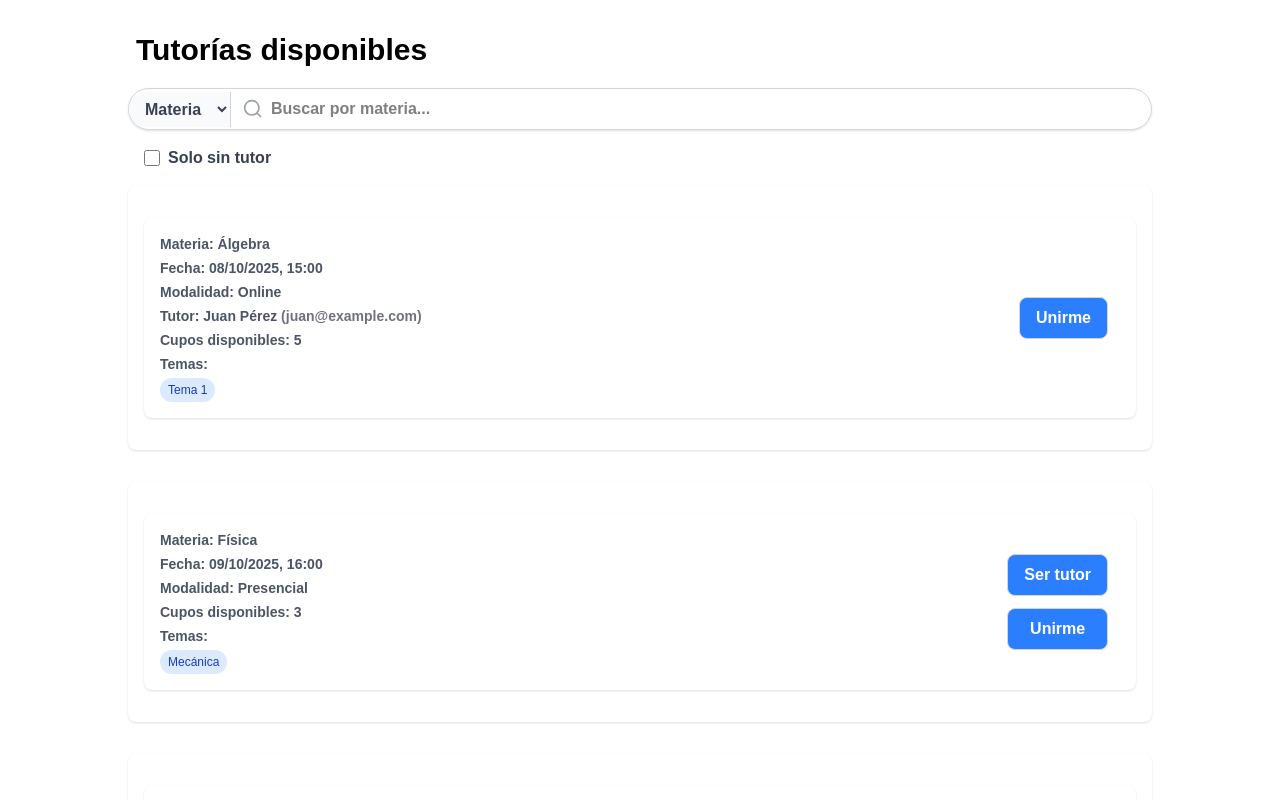
Scenario: TutoringPage - Filtros y búsqueda › aplica filtros combinados y toggle de tutor indefinido
The image size is (1280, 800).
Filtramos por materia "Química"
Select "Materia" in the dropdown named "Buscar por" at (180, 109), box [129,92,231,126]
Type "Química" into the field with placeholder "Buscar por materia..." at (691, 109), box [231,89,1151,129]
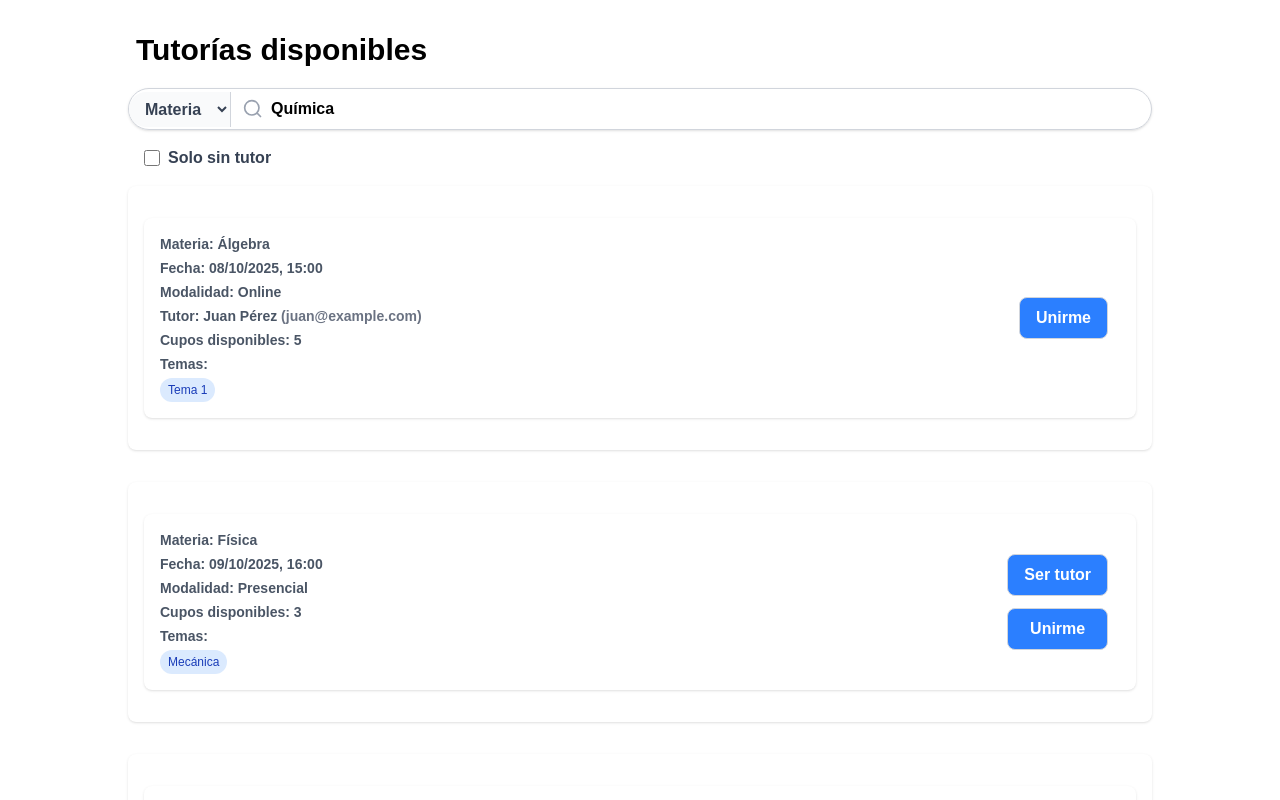
Activamos checkbox de Solo sin tutor → solo tutorías sin tutor
Click the checkbox labelled "Solo sin tutor" at (152, 158), box [144,150,160,166]
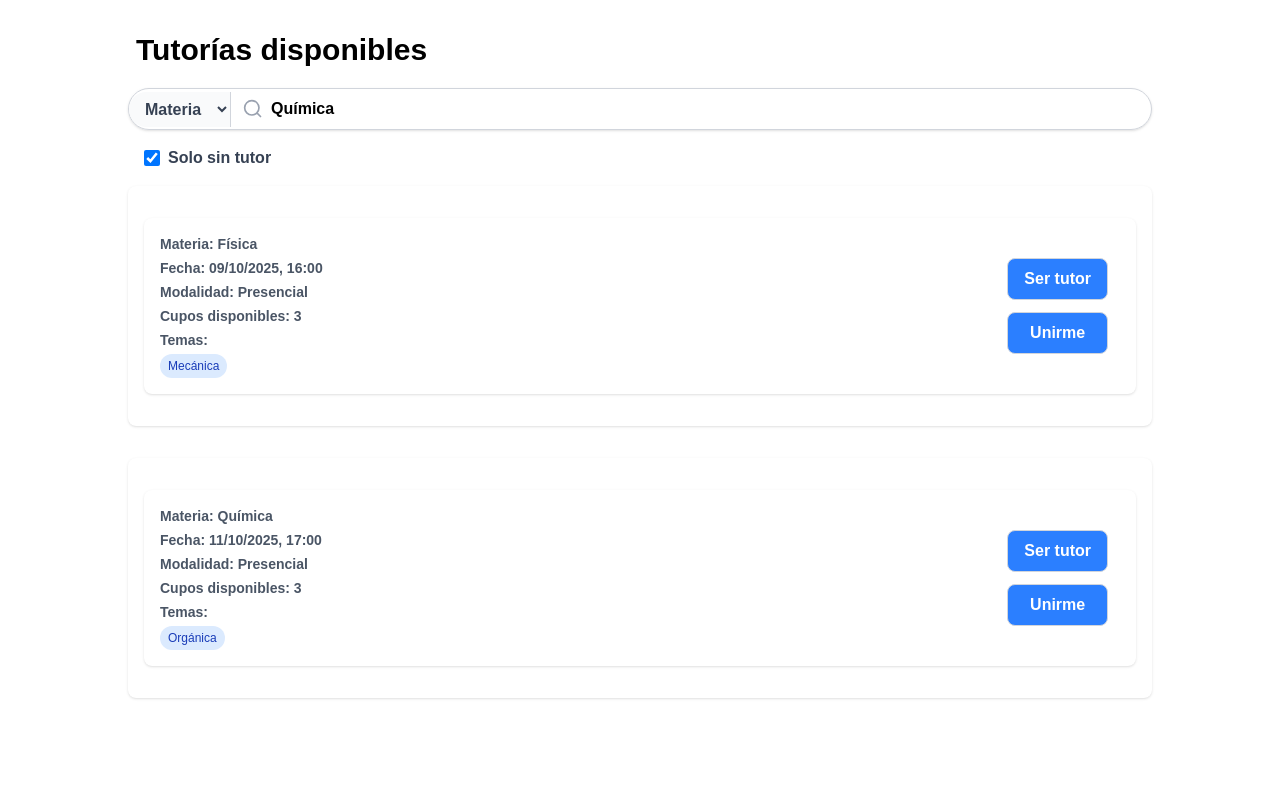
Now the text "Materia: Química" is shown once, box [160,508,273,524]
Desmarcamos checkbox → todas las tutorías de Química
Click the checkbox labelled "Solo sin tutor" at (152, 158), box [144,150,160,166]
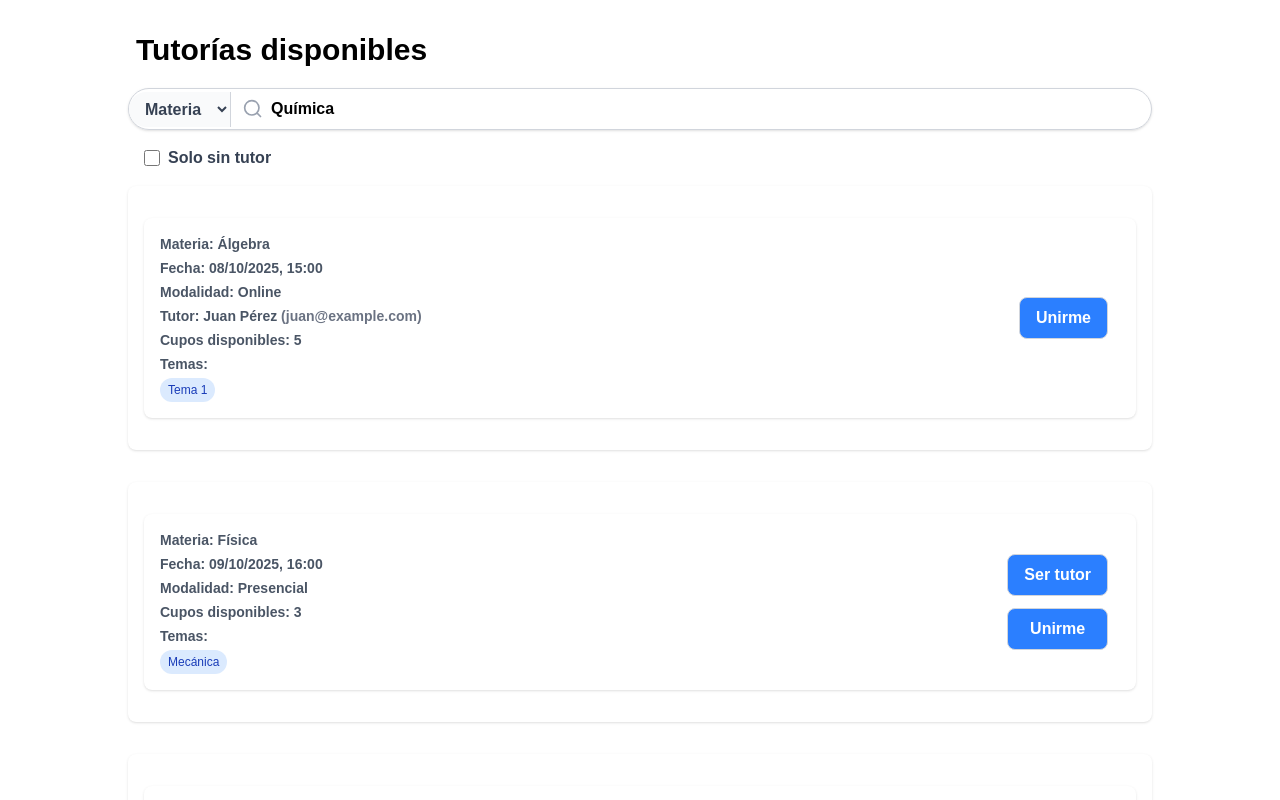
Volvemos a marcar checkbox → solo tutorías sin tutor
Click the checkbox labelled "Solo sin tutor" at (152, 158), box [144,150,160,166]
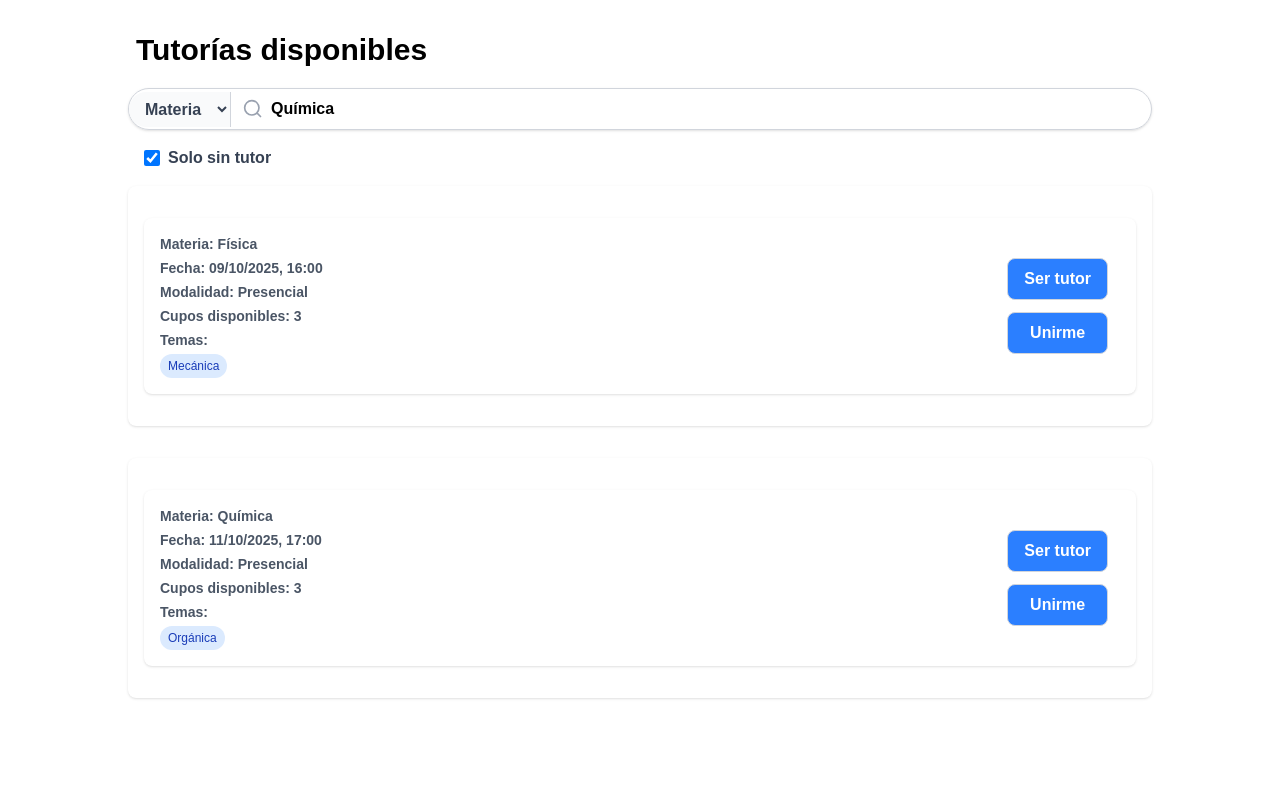
Now the text "Materia: Química" is shown once, box [160,508,273,524]
